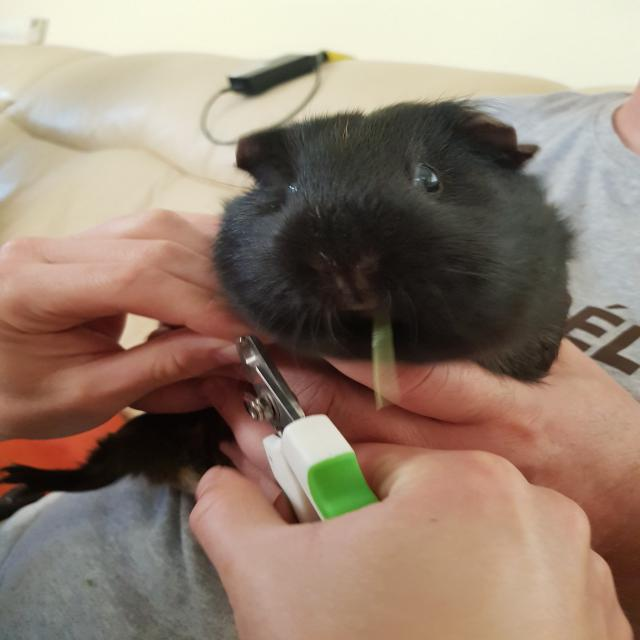guinea pig: (1, 97, 579, 500)
